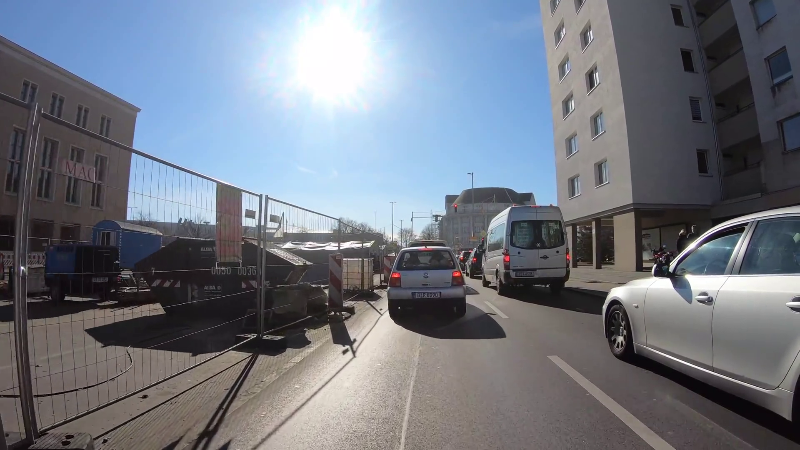Plate: (410, 291, 442, 300), (514, 268, 537, 278)
